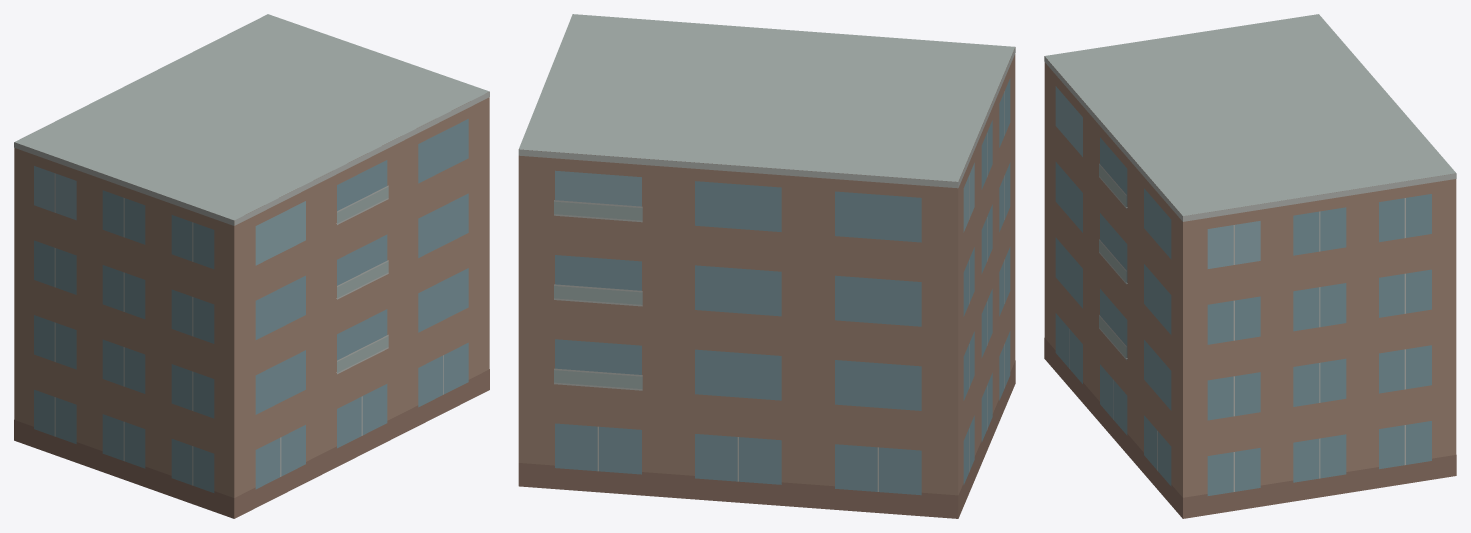
File: survey-upis-32969943.glb
3 views of the same model, side by side, from view 1: azimuth 30°, elevation 25°; view 2: azimuth 150°, elevation 25°; view 3: azimuth 270°, elevation 25° (orthographic). The views are drawn at different scales.
Parts seen in each view (by area): view 1: survey-upis-32969943.tmp; view 2: survey-upis-32969943.tmp; view 3: survey-upis-32969943.tmp.
Boxes of the visible parts, left/top/right/bottom form: survey-upis-32969943.tmp: left=14, top=14, right=489, bottom=518; survey-upis-32969943.tmp: left=518, top=14, right=1015, bottom=518; survey-upis-32969943.tmp: left=1044, top=14, right=1456, bottom=518.
Size of the model in its own units: 18.64 by 13 by 16.05.
